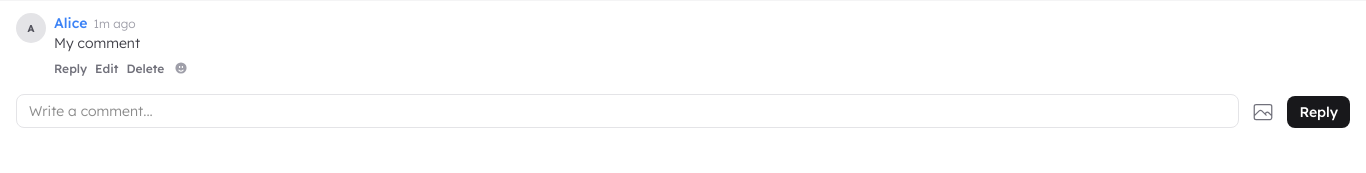
CommentSection › cancels delete when Cancel is clicked in confirmation
Click the button with test id "comment-delete-button".
click(145, 68)  # box [126,60,164,76]
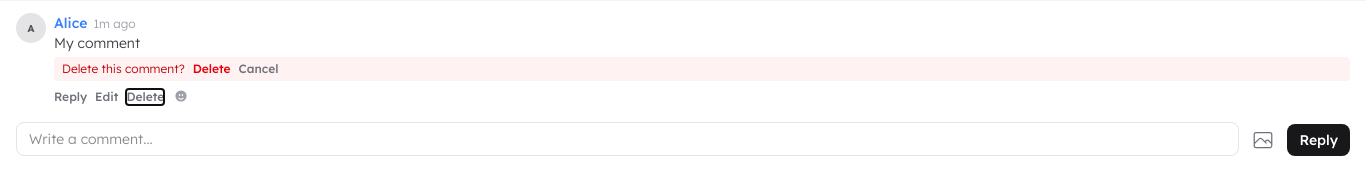
Result: the text "Delete this comment?" is shown at [62,61,185,77]
Click the Cancel button in the confirmation
Click the button "Cancel".
click(259, 69)  # box [239,61,279,77]
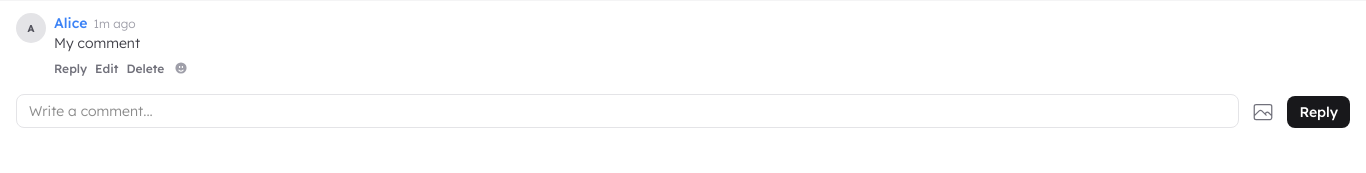
Result: the text "Delete this comment?" is gone
